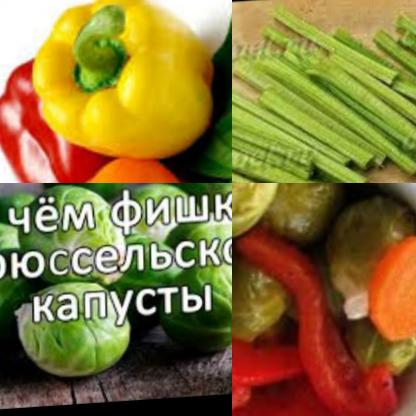bell pepper: (20, 0, 217, 177), (232, 220, 398, 416), (0, 51, 118, 183), (41, 145, 230, 183), (232, 386, 357, 416)
brus capusta: (309, 184, 412, 316), (10, 277, 137, 378), (16, 183, 119, 270), (111, 183, 188, 294), (232, 254, 301, 369), (268, 183, 343, 258), (183, 258, 232, 363), (343, 317, 411, 381), (171, 183, 232, 238), (232, 183, 274, 254), (0, 264, 18, 350), (37, 183, 120, 194)
carrot: (368, 235, 416, 360)
celery: (232, 0, 416, 183)
